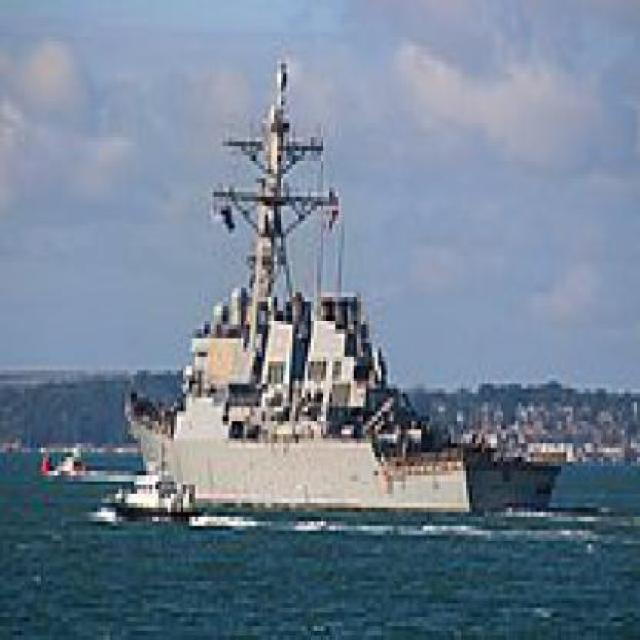warship2: (123, 15, 563, 532)
